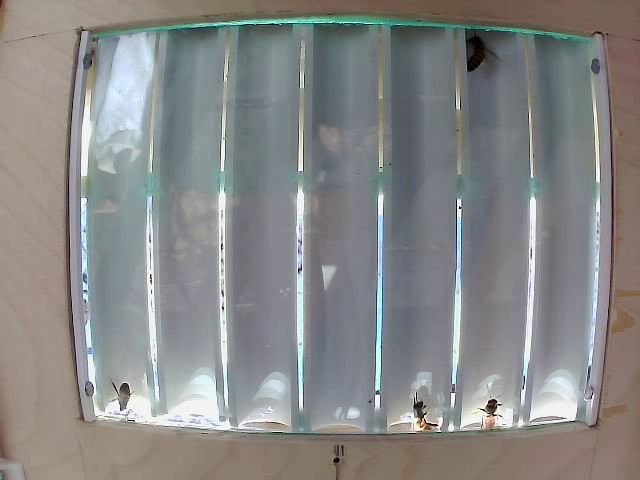bee: (467, 41, 496, 74)
